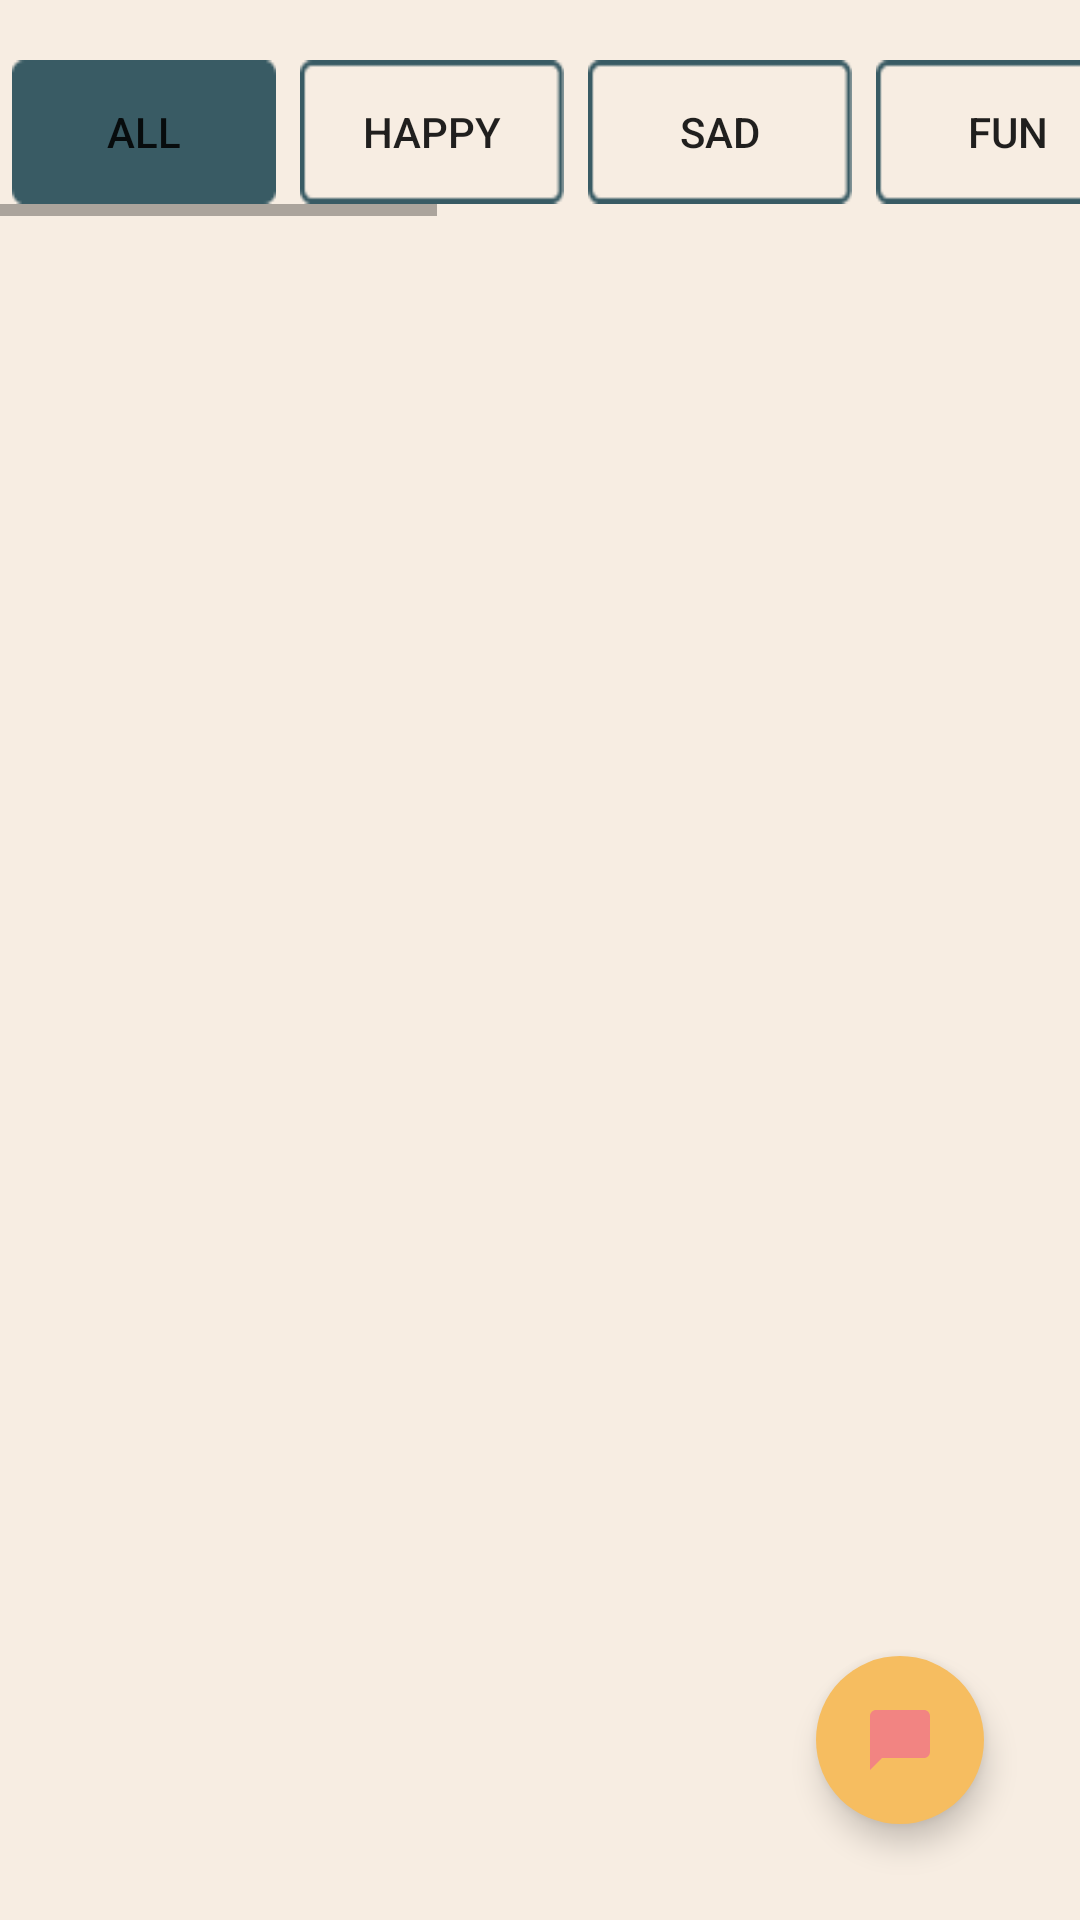

Where to tap for icons on this 1080px×1920px app screen, as (x,y):
post: (900,1740)
